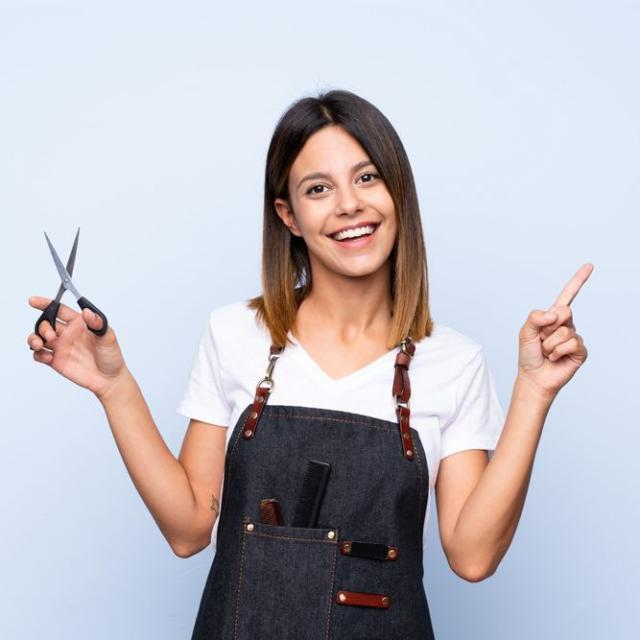tesoura: (34, 225, 108, 349)
